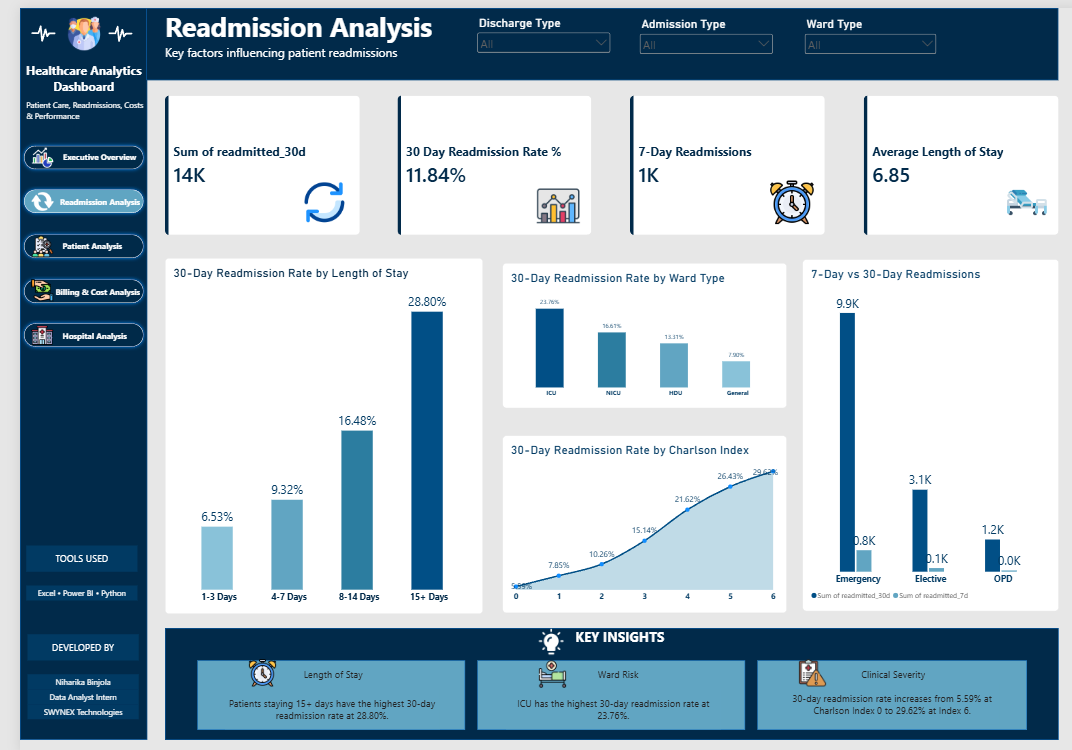

The dashboard page shown, as its layout file describes it:
{"tool":"powerbi","page":{"name":"Readmission Analysis","canvas":[2125,1490],"ordinal":1},"visuals":[{"type":"cardVisual","fields":{"Data":["Sum(admissions_cleaned.readmitted_30d)"]},"box":[288.9,175.9,390.7,279.6],"z":0},{"type":"cardVisual","fields":{"Data":["Sum(admissions_cleaned.readmitted_7d)"]},"box":[1220.4,175.9,390.7,279.6],"z":1000},{"type":"cardVisual","fields":{"Data":["admissions_cleaned.30 Day Readmission Rate %"]},"box":[755.6,175.9,388.9,279.6],"z":2000},{"type":"cardVisual","fields":{"Data":["Avg(admissions_cleaned.los_days)"]},"box":[1687,174.1,390.7,279.6],"z":3000},{"type":"clusteredColumnChart","title":"30-Day Readmission Rate by Length of Stay","fields":{"Category":["admissions_cleaned.LOS Group"],"Y":["admissions_cleaned.30 Day Readmission Rate %"]},"box":[290,500,636,712.2],"z":4000},{"type":"clusteredColumnChart","title":"30-Day Readmission Rate by Ward Type","fields":{"Category":["admissions_cleaned.ward_type"],"Y":["admissions_cleaned.30 Day Readmission Rate %"]},"box":[964.8,511.1,568.5,290.7],"z":5000},{"type":"lineChart","title":"30-Day Readmission Rate by Charlson Index","fields":{"Category":["admissions_cleaned.charlson_index"],"Y":["admissions_cleaned.30 Day Readmission Rate %"]},"box":[964.8,855.6,568.5,355.6],"z":6000},{"type":"clusteredColumnChart","title":"7-Day vs 30-Day Readmissions","fields":{"Category":["admissions_cleaned.admit_type"],"Y":["Sum(admissions_cleaned.readmitted_30d)","Sum(admissions_cleaned.readmitted_7d)"]},"box":[1564.8,503.7,513,703.7],"z":7000},{"type":"shape","box":[0,0,254.5,1463.6],"z":11000},{"type":"image","box":[92.4,18.5,71.7,67.4],"z":12000},{"type":"textbox","box":[0,108,255,75],"z":13000},{"type":"image","box":[12,18.5,68.5,67.4],"z":14000},{"type":"image","box":[167.4,18.5,66.3,67.4],"z":15000},{"type":"textbox","box":[12,183,243,60],"z":16000},{"type":"shape","box":[0,268,255,63],"z":17000},{"type":"image","box":[19,278,51,44],"z":18000},{"type":"textbox","box":[61.8,268,193.4,62.9],"z":19000},{"type":"shape","box":[0,356,255,63],"z":20000},{"type":"image","box":[20,366,51,44],"z":21000},{"type":"shape","box":[0,445.6,255,63],"z":22000},{"type":"image","box":[19,454.4,50.3,44.2],"z":23000},{"type":"textbox","box":[84.7,445,170.6,63.4],"z":24000},{"type":"shape","box":[0,533.8,255,63],"z":25000},{"type":"image","box":[20,543.5,49.5,44],"z":26000},{"type":"shape","box":[0,623.7,255,63],"z":27000},{"type":"image","box":[19.3,633.1,49.4,44],"z":28000},{"type":"textbox","box":[84.7,624.2,170,63.2],"z":29000},{"type":"shape","box":[253.7,0,1824.1,144.4],"z":30000},{"type":"textbox","box":[289.8,0,675.5,71.4],"z":31000},{"type":"textbox","box":[289.8,71.4,736.7,59.2],"z":32000},{"type":"slicer","fields":{"Values":["billing_cleaned.Ward Type"]},"box":[1565,17.5,272.5,117.5],"z":32125},{"type":"slicer","fields":{"Values":["billing_cleaned.Admission Type"]},"box":[1235,17.5,275,117.5],"z":32250},{"type":"slicer","fields":{"Values":["billing_cleaned.Discharge Type"]},"box":[910,15,275,117.5],"z":32500},{"type":"shape","box":[290.7,1238.9,1787,224.1],"z":32501},{"type":"shape","box":[355.6,1305.6,535.2,138.9],"z":32502},{"type":"shape","box":[914.8,1305.2,535.2,138.9],"z":32503},{"type":"shape","box":[1474.1,1305.6,538.9,138.9],"z":32504},{"type":"shape","box":[505.6,1309.3,242.9,44.6],"z":32505},{"type":"shape","box":[1075.9,1309.3,242.9,44.6],"z":32506},{"type":"shape","box":[1624.1,1309.3,242.9,44.6],"z":32507},{"type":"shape","box":[411.1,1363,428.6,80.4],"z":32508},{"type":"shape","box":[972.2,1363,428.6,80.4],"z":32509},{"type":"shape","box":[1529.6,1353.7,428.6,80.4],"z":32510},{"type":"image","box":[1544.4,1303.7,80,54.5],"z":32512},{"type":"image","box":[1025.9,1305.6,80,54.5],"z":32513},{"type":"image","box":[444.4,1303.7,80,54.5],"z":32514},{"type":"image","box":[551.6,343.8,112.5,87.5],"z":32515},{"type":"image","box":[1956.2,343.8,112.5,87.5],"z":32516},{"type":"image","box":[1487.5,343.8,112.5,87.5],"z":32517},{"type":"image","box":[1020.3,343.8,112.5,101.6],"z":32518},{"type":"textbox","box":[950,1239.3,500,71.4],"z":32519},{"type":"image","box":[1021.9,1239.1,80,54.5],"z":32520},{"type":"shape","box":[14.6,1392.7,222.5,30],"z":32521},{"type":"shape","box":[14.6,1363.4,222.5,30],"z":32522},{"type":"shape","box":[14.6,1331.7,222.5,30],"z":32523},{"type":"shape","box":[15,1252.5,222.5,52.5],"z":32524},{"type":"shape","box":[12.2,1075.6,222.5,52.5],"z":32525},{"type":"shape","box":[12.2,1156.1,222.5,30],"z":32526}]}

Visuals, with their boxes on the page's 2125x1490 design canvas (x1, y1, x2, y2). These are canvas units, not pixel positions in the 1072x750 screenshot, which may show the page scaled, cropped or inside an application window:
cardVisual - Sum(admissions_cleaned.readmitted_30d): box=[289, 176, 680, 456]
cardVisual - Sum(admissions_cleaned.readmitted_7d): box=[1220, 176, 1611, 456]
cardVisual - admissions_cleaned.30 Day Readmission Rate %: box=[756, 176, 1144, 456]
cardVisual - Avg(admissions_cleaned.los_days): box=[1687, 174, 2078, 454]
"30-Day Readmission Rate by Length of Stay" clusteredColumnChart: box=[290, 500, 926, 1212]
"30-Day Readmission Rate by Ward Type" clusteredColumnChart: box=[965, 511, 1533, 802]
"30-Day Readmission Rate by Charlson Index" lineChart: box=[965, 856, 1533, 1211]
"7-Day vs 30-Day Readmissions" clusteredColumnChart: box=[1565, 504, 2078, 1207]
shape: box=[0, 0, 254, 1464]
image: box=[92, 18, 164, 86]
textbox: box=[0, 108, 255, 183]
image: box=[12, 18, 80, 86]
image: box=[167, 18, 234, 86]
textbox: box=[12, 183, 255, 243]
shape: box=[0, 268, 255, 331]
image: box=[19, 278, 70, 322]
textbox: box=[62, 268, 255, 331]
shape: box=[0, 356, 255, 419]
image: box=[20, 366, 71, 410]
shape: box=[0, 446, 255, 509]
image: box=[19, 454, 69, 499]
textbox: box=[85, 445, 255, 508]
shape: box=[0, 534, 255, 597]
image: box=[20, 544, 70, 588]
shape: box=[0, 624, 255, 687]
image: box=[19, 633, 69, 677]
textbox: box=[85, 624, 255, 687]
shape: box=[254, 0, 2078, 144]
textbox: box=[290, 0, 965, 71]
textbox: box=[290, 71, 1026, 131]
slicer - billing_cleaned.Ward Type: box=[1565, 18, 1838, 135]
slicer - billing_cleaned.Admission Type: box=[1235, 18, 1510, 135]
slicer - billing_cleaned.Discharge Type: box=[910, 15, 1185, 132]
shape: box=[291, 1239, 2078, 1463]
shape: box=[356, 1306, 891, 1444]
shape: box=[915, 1305, 1450, 1444]
shape: box=[1474, 1306, 2013, 1444]
shape: box=[506, 1309, 748, 1354]
shape: box=[1076, 1309, 1319, 1354]
shape: box=[1624, 1309, 1867, 1354]
shape: box=[411, 1363, 840, 1443]
shape: box=[972, 1363, 1401, 1443]
shape: box=[1530, 1354, 1958, 1434]
image: box=[1544, 1304, 1624, 1358]
image: box=[1026, 1306, 1106, 1360]
image: box=[444, 1304, 524, 1358]
image: box=[552, 344, 664, 431]
image: box=[1956, 344, 2069, 431]
image: box=[1488, 344, 1600, 431]
image: box=[1020, 344, 1133, 445]
textbox: box=[950, 1239, 1450, 1311]
image: box=[1022, 1239, 1102, 1294]
shape: box=[15, 1393, 237, 1423]
shape: box=[15, 1363, 237, 1393]
shape: box=[15, 1332, 237, 1362]
shape: box=[15, 1252, 238, 1305]
shape: box=[12, 1076, 235, 1128]
shape: box=[12, 1156, 235, 1186]
